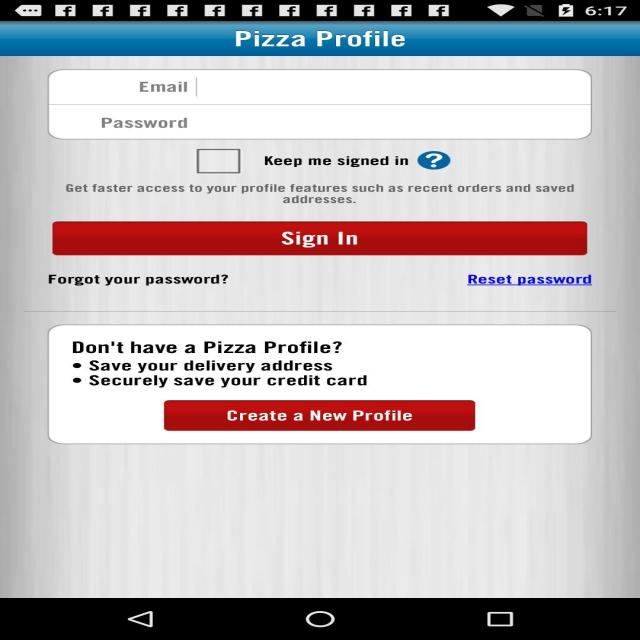button: (53, 218, 594, 260), (165, 400, 471, 432), (464, 271, 598, 292)
icon: (178, 143, 249, 175)
text: (64, 336, 385, 394), (55, 176, 595, 210), (203, 23, 428, 54), (44, 264, 246, 294), (455, 269, 612, 297), (220, 404, 428, 424), (252, 146, 415, 170), (70, 108, 201, 135), (257, 229, 375, 246), (120, 76, 207, 98)
